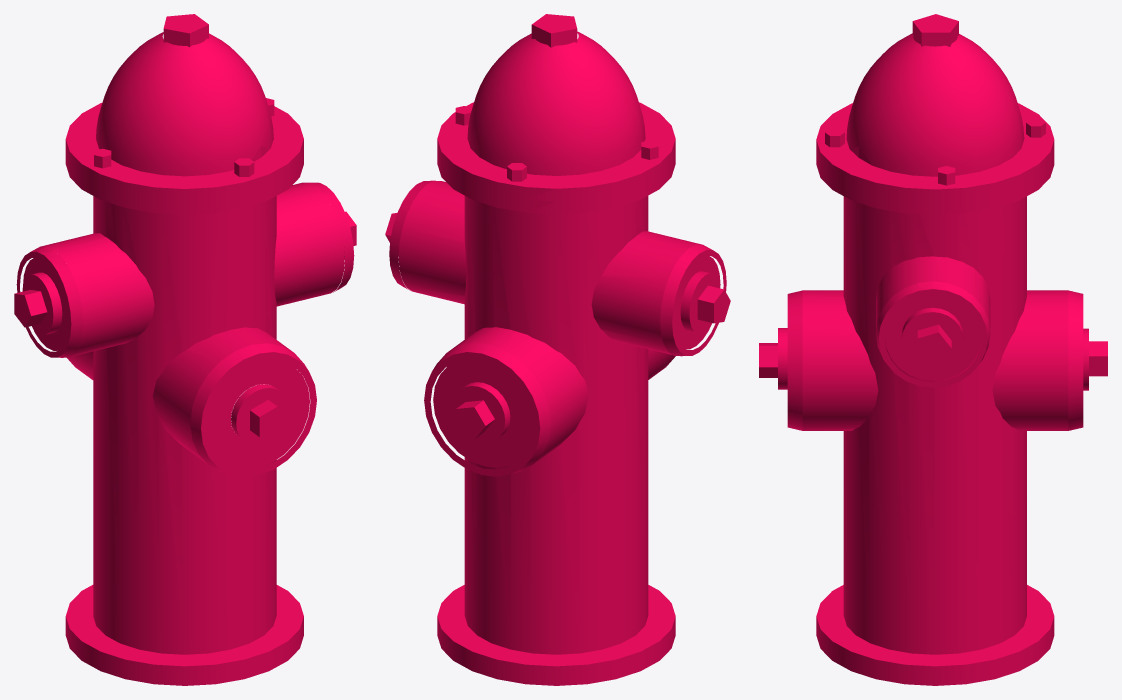
File: fire_hy.glb
3 renders of one model, left to right at view 1: azimuth 30°, elevation 25°; view 2: azimuth 150°, elevation 25°; view 3: azimuth 270°, elevation 25°, orthographic.
Parts seen in each view (by area): view 1: Mesh5 Group2 Model, Mesh7 Group4 Model, Mesh6 Group3 Model, Mesh12 Group9 Model, Mesh4 Group1 Model, Mesh1 Group1 Model, Mesh22 Model, Mesh3 Group1 Model, Mesh21 Model, Mesh26 Model, Mesh13 Group10 Model, Mesh25 Model (+4 smaller); view 2: Mesh5 Group2 Model, Mesh7 Group4 Model, Mesh6 Group3 Model, Mesh12 Group9 Model, Mesh4 Group1 Model, Mesh1 Group1 Model, Mesh20 Model, Mesh2 Group1 Model, Mesh19 Model, Mesh26 Model, Mesh13 Group10 Model, Mesh25 Model (+4 smaller); view 3: Mesh5 Group2 Model, Mesh7 Group4 Model, Mesh6 Group3 Model, Mesh2 Group1 Model, Mesh3 Group1 Model, Mesh12 Group9 Model, Mesh23 Model, Mesh1 Group1 Model, Mesh13 Group10 Model, Mesh24 Model, Mesh19 Model, Mesh21 Model (+4 smaller).
Boxes of the visible parts, <box> form: Mesh5 Group2 Model: <box>93,196,276,654</box>; Mesh7 Group4 Model: <box>96,32,273,176</box>; Mesh6 Group3 Model: <box>65,585,303,685</box>; Mesh12 Group9 Model: <box>65,103,303,201</box>; Mesh4 Group1 Model: <box>41,233,154,356</box>; Mesh1 Group1 Model: <box>274,182,344,306</box>; Mesh22 Model: <box>207,359,309,469</box>; Mesh3 Group1 Model: <box>152,327,293,463</box>; Mesh21 Model: <box>190,343,316,476</box>; Mesh26 Model: <box>14,257,68,350</box>; Mesh13 Group10 Model: <box>65,152,303,214</box>; Mesh25 Model: <box>16,246,83,357</box>; Mesh5 Group2 Model: <box>464,196,648,654</box>; Mesh7 Group4 Model: <box>467,31,645,175</box>; Mesh6 Group3 Model: <box>437,585,675,685</box>; Mesh12 Group9 Model: <box>437,102,675,201</box>; Mesh4 Group1 Model: <box>591,231,701,354</box>; Mesh1 Group1 Model: <box>398,180,466,304</box>; Mesh20 Model: <box>433,359,533,467</box>; Mesh2 Group1 Model: <box>448,327,588,463</box>; Mesh19 Model: <box>424,343,550,476</box>; Mesh26 Model: <box>675,256,730,349</box>; Mesh13 Group10 Model: <box>437,152,675,214</box>; Mesh25 Model: <box>660,244,726,356</box>; Mesh5 Group2 Model: <box>843,196,1026,654</box>; Mesh7 Group4 Model: <box>846,33,1024,176</box>; Mesh6 Group3 Model: <box>816,585,1054,685</box>; Mesh2 Group1 Model: <box>992,290,1068,430</box>; Mesh3 Group1 Model: <box>802,290,878,430</box>; Mesh12 Group9 Model: <box>816,103,1054,202</box>; Mesh23 Model: <box>885,294,981,380</box>; Mesh1 Group1 Model: <box>876,256,990,330</box>; Mesh13 Group10 Model: <box>816,152,1054,214</box>; Mesh24 Model: <box>876,281,990,387</box>; Mesh19 Model: <box>1068,290,1083,430</box>; Mesh21 Model: <box>787,290,802,430</box>.
Size of the model in its own units: 0.4785 by 0.8555 by 0.4424.
